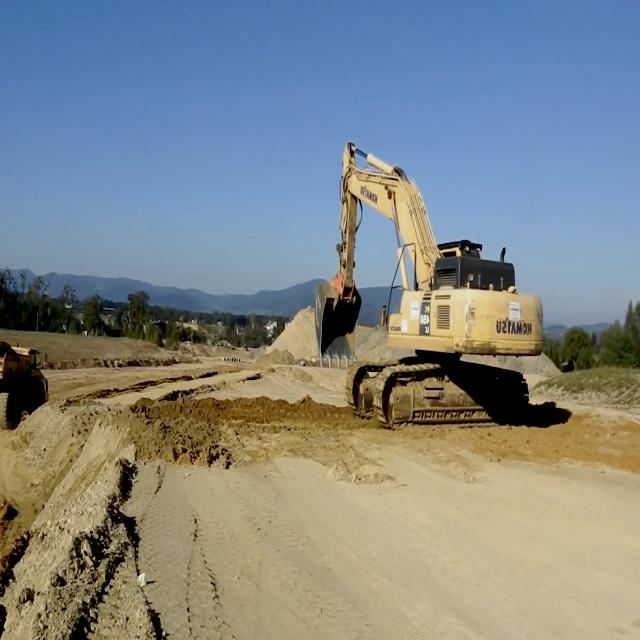Excavator: (314, 138, 544, 428)
